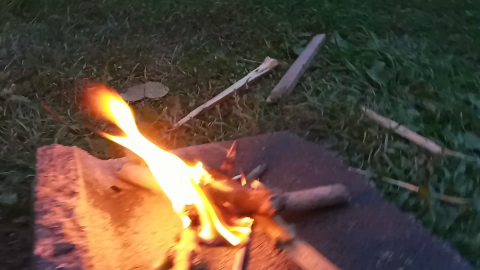fire: (75, 72, 243, 228)
